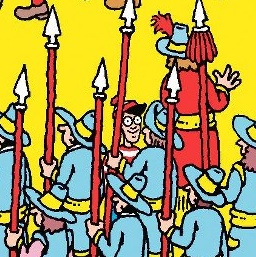waldo: (109, 96, 147, 161), (113, 98, 148, 144)
